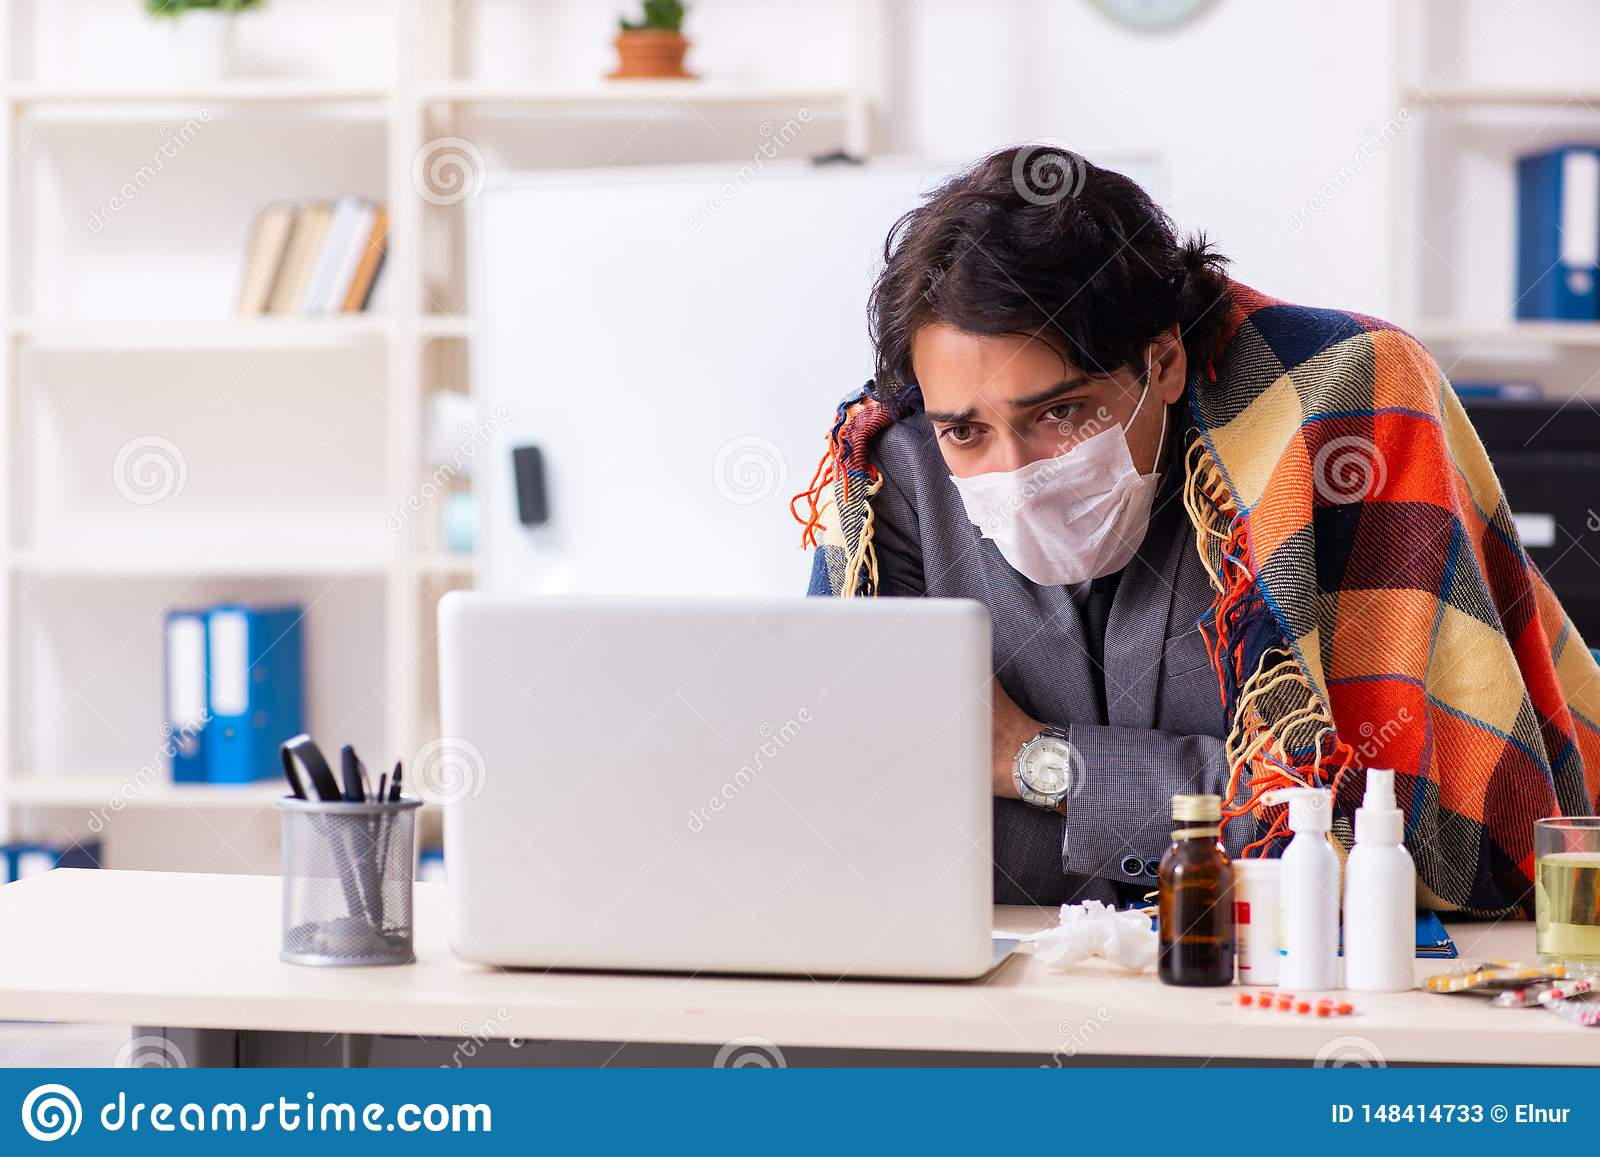mask: (903, 428, 1194, 588)
